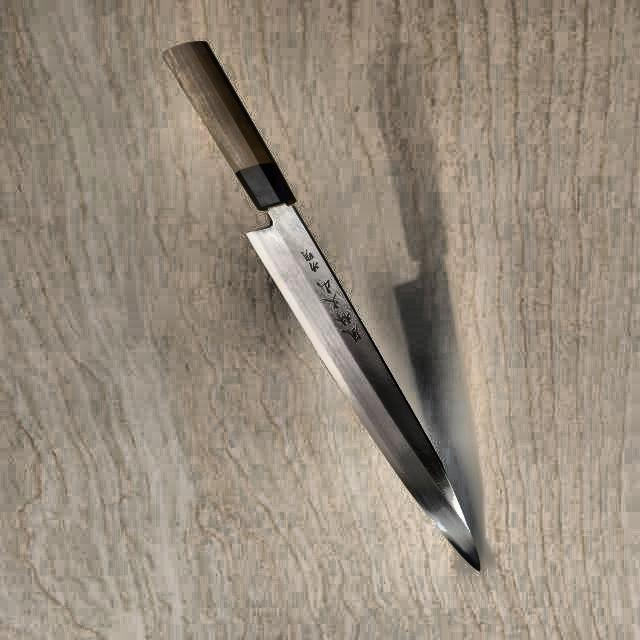knife: (152, 36, 486, 570)
